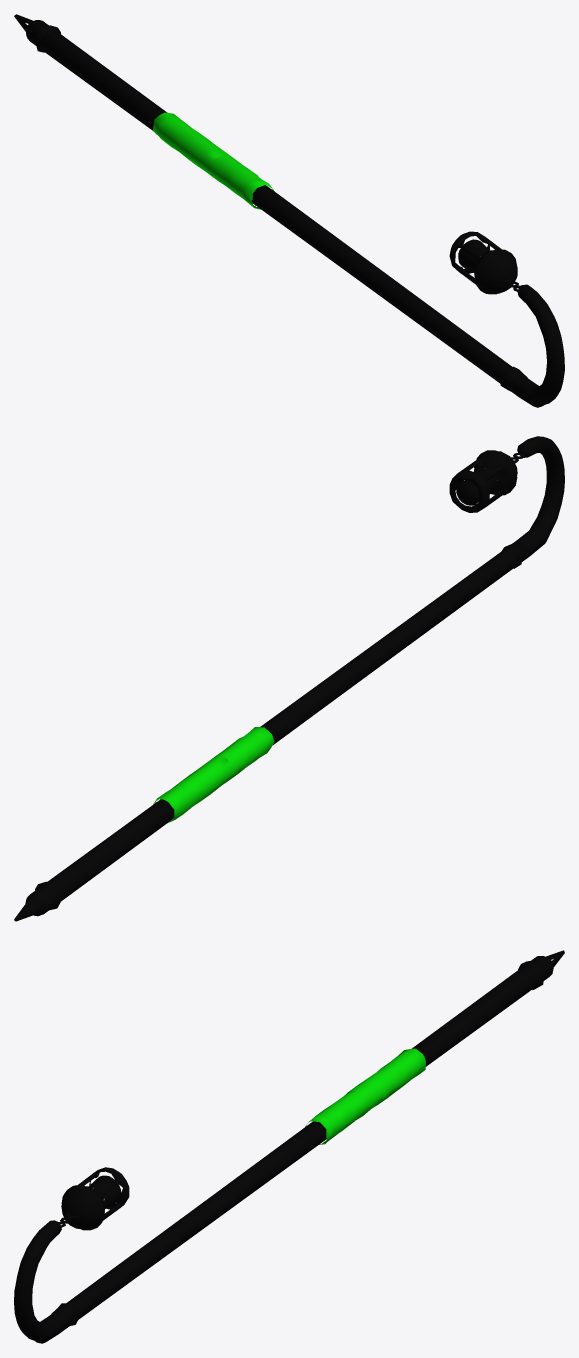
Rendered from lantern.glb.
3 renders of one model, top to bottom at view 1: azimuth 30°, elevation 25°; view 2: azimuth 150°, elevation 25°; view 3: azimuth 330°, elevation 25°, orthographic.
Parts seen in each view (by area): view 1: lantern; view 2: lantern; view 3: lantern.
Part boxes in pixels (left/top/right/bottom): lantern: left=14, top=14, right=564, bottom=407; lantern: left=14, top=436, right=564, bottom=921; lantern: left=14, top=950, right=564, bottom=1343.
Size of the model in its own units: 0.0696 by 0.2072 by 1.55.
